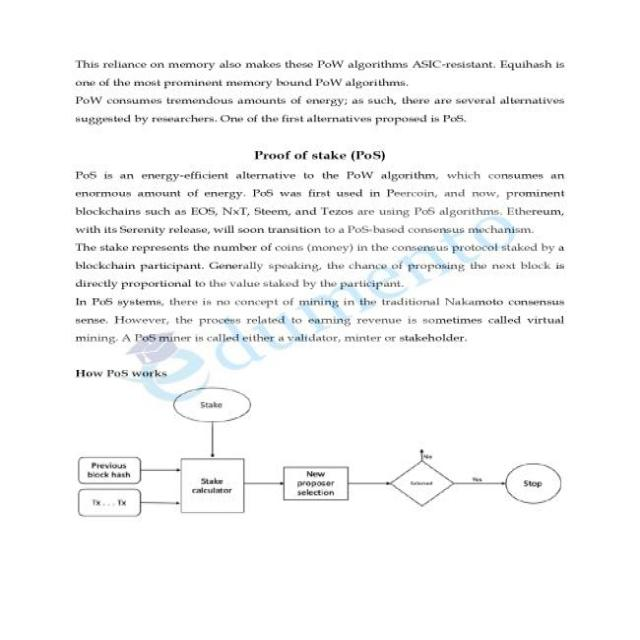Figure Detection - v3 Dataset Version2: (66, 380, 576, 529)
